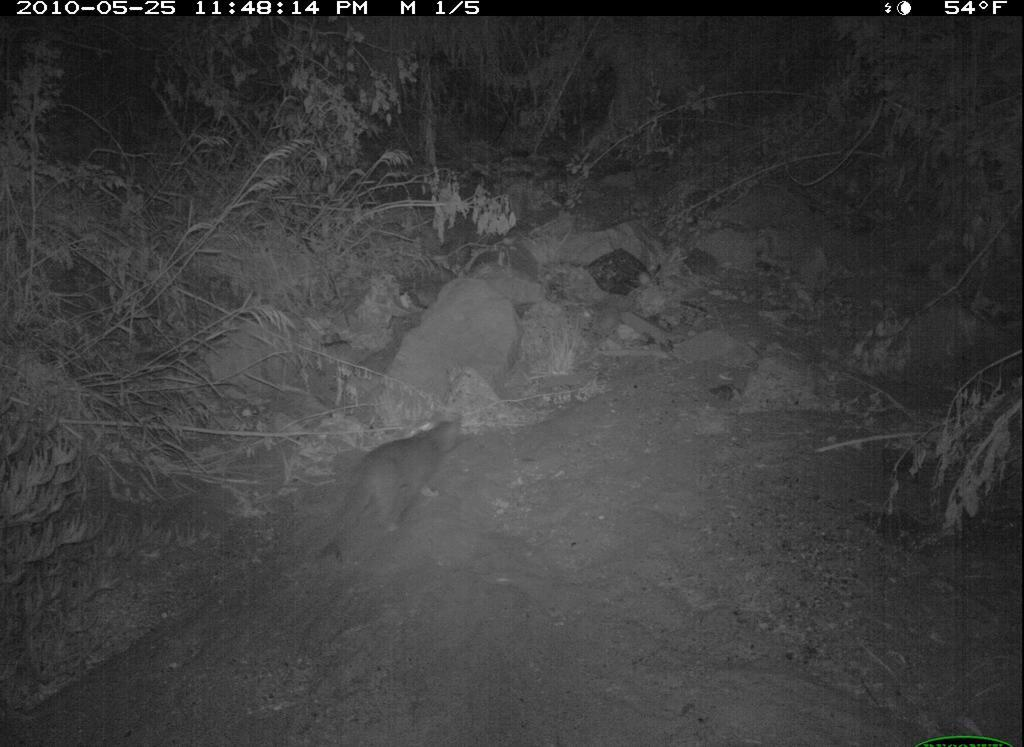cat: (310, 400, 470, 565)
